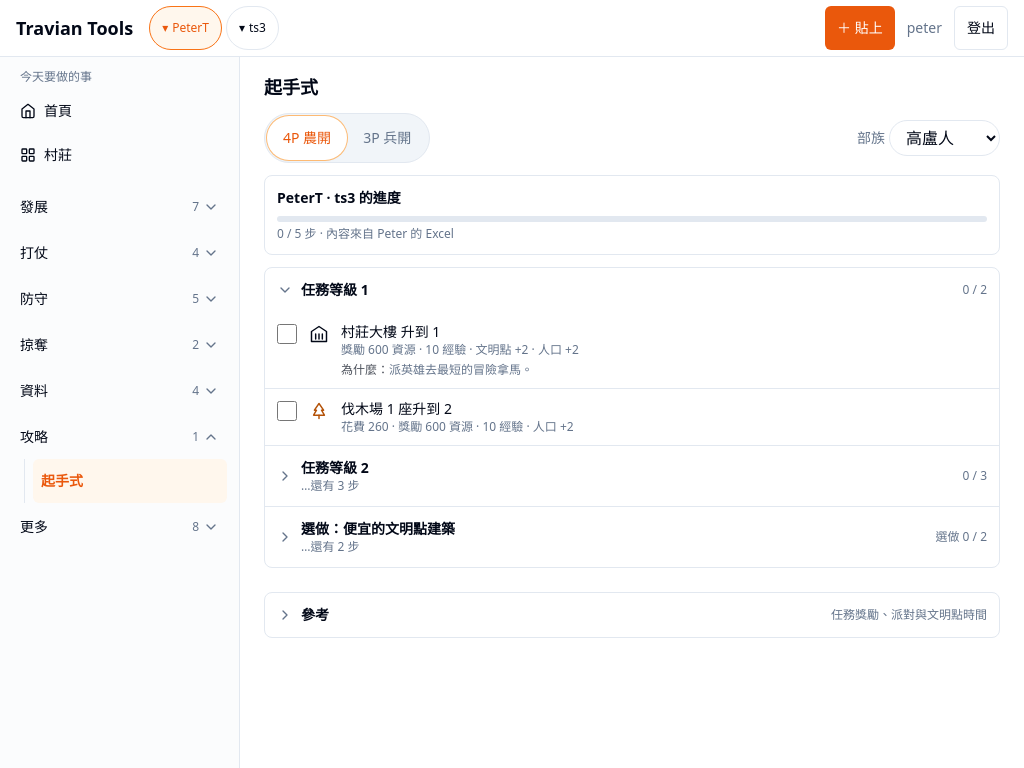
Scenario: 起手式清單 (P0-10) › checks and unchecks a step, strikes it through, and saves it for this account and strategy
Expected: the checkbox named "完成：村莊大樓 升到 1" is shown, [277,324,297,344]
Click the checkbox named "完成：伐木場 1 座升到 2": [287, 411] box [277,401,297,421]
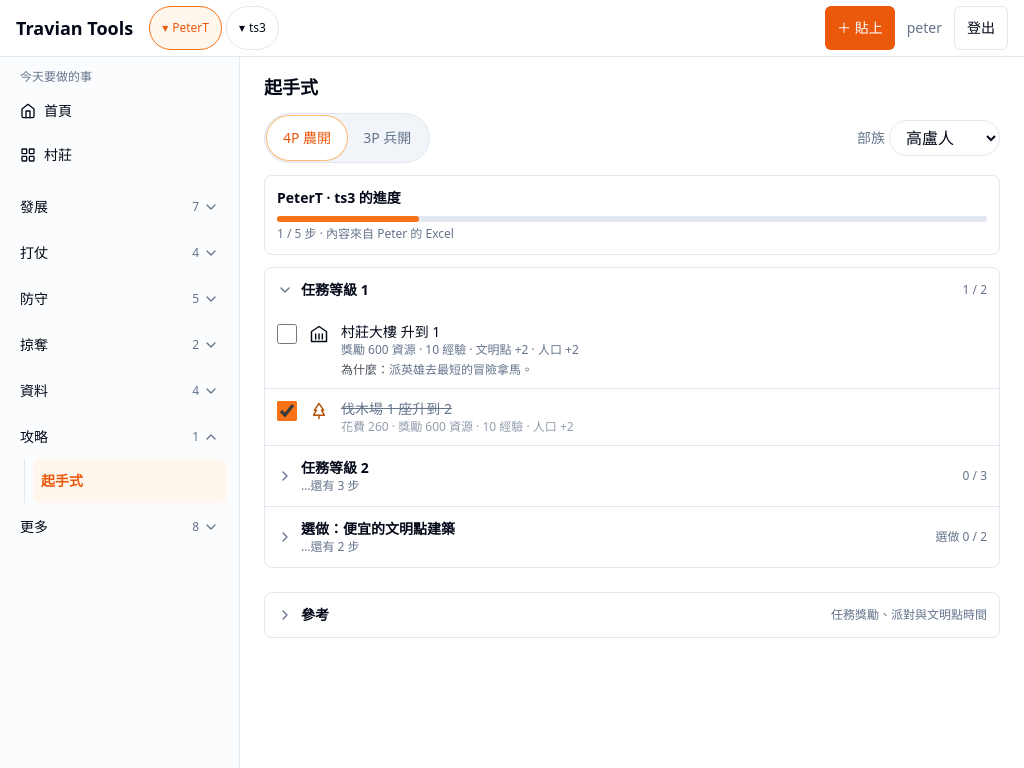
Expected: the text "伐木場 1 座升到 2" is shown, [341,399,452,418]
Expected: the checkbox named "完成：伐木場 1 座升到 2" is checked
Expected: the text "1 / 5 步 · 內容來自 Peter 的 Excel" is shown, [277,225,454,242]
Click the checkbox named "完成：伐木場 1 座升到 2": [287, 411] box [277,401,297,421]
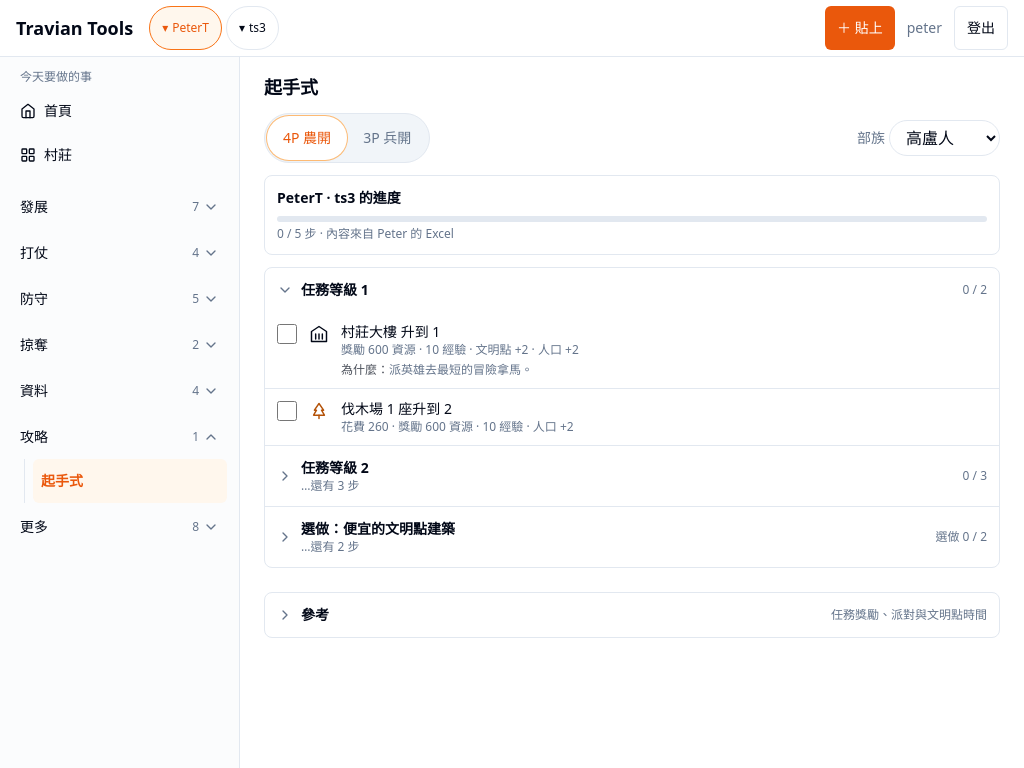
Expected: the checkbox named "完成：伐木場 1 座升到 2" is not checked, [277,401,297,421]
Expected: the text "0 / 5 步 · 內容來自 Peter 的 Excel" is shown, [277,225,454,242]
